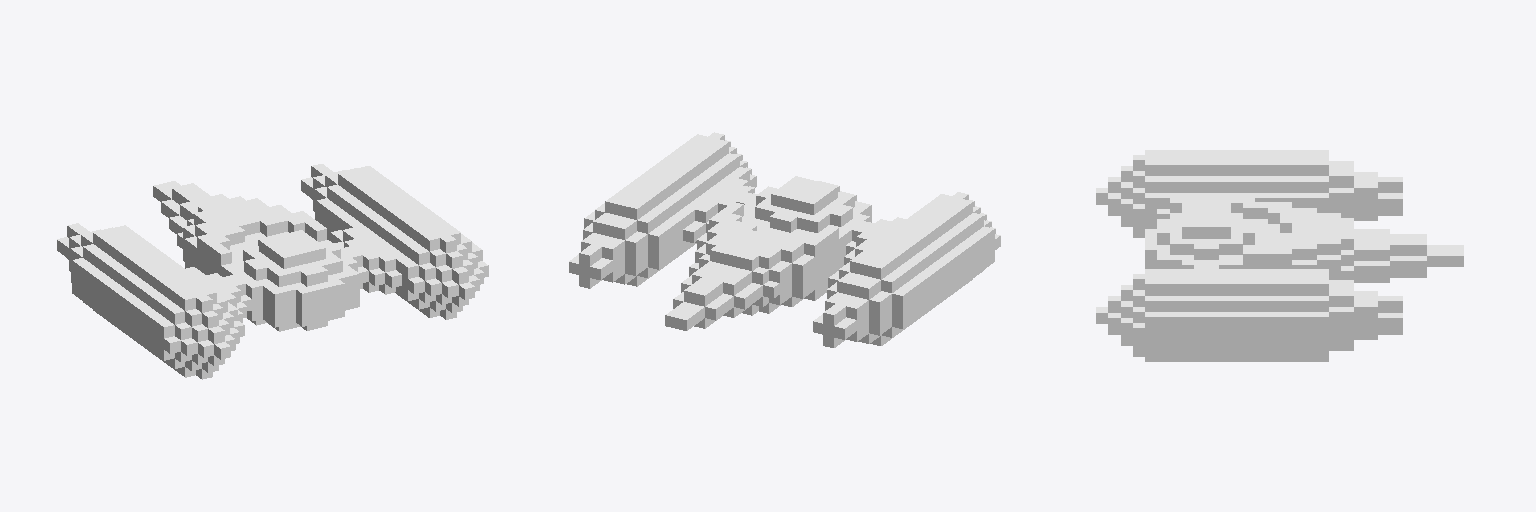
File: enemy_l.obj
3 renders of one model, left to right at view 1: azimuth 30°, elevation 25°; view 2: azimuth 150°, elevation 25°; view 3: azimuth 270°, elevation 25°, orthographic.
Visible parts, largest first — view 1: object 1; view 2: object 1; view 3: object 1.
Boxes of the visible parts, x1,y1,x2,y2 form: object 1: [57, 164, 488, 379]; object 1: [569, 132, 1000, 347]; object 1: [1096, 150, 1463, 361].
Bounding box in the file's own units: 3 × 0.7 × 3.